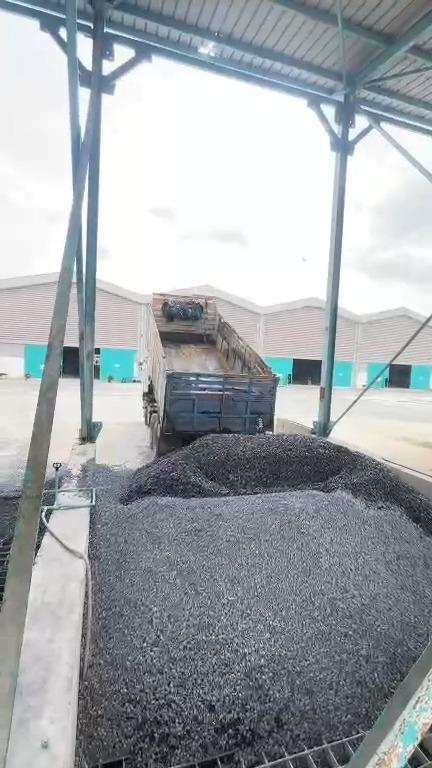gravel: (76, 456, 431, 767), (120, 435, 431, 533), (0, 486, 20, 610), (0, 486, 19, 541), (34, 519, 45, 557), (60, 467, 76, 489), (42, 477, 54, 506), (45, 509, 51, 522)
sand: (404, 438, 431, 447)
